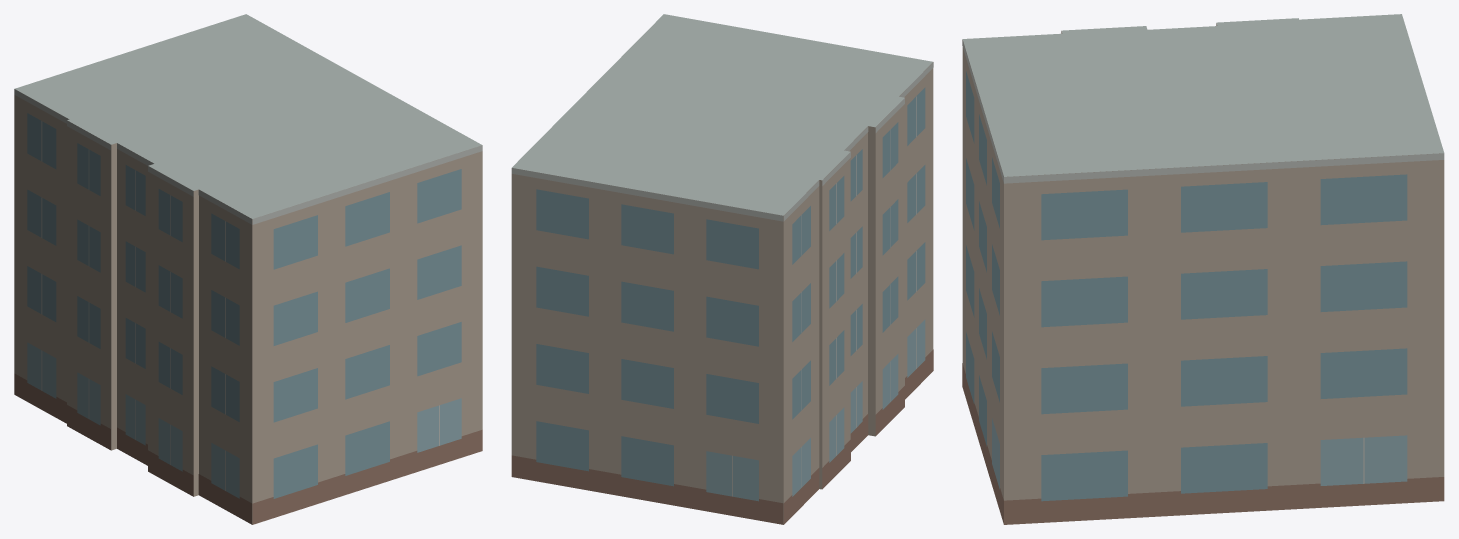
File: survey-upis-32871502.glb
3 views of the same model, side by side, from view 1: azimuth 30°, elevation 25°; view 2: azimuth 150°, elevation 25°; view 3: azimuth 270°, elevation 25° (orthographic). The views are drawn at different scales.
Parts seen in each view (by area): view 1: survey-upis-32871502.tmp; view 2: survey-upis-32871502.tmp; view 3: survey-upis-32871502.tmp.
Boxes of the visible parts, x1,y1,x2,y2 form: survey-upis-32871502.tmp: (14, 14, 482, 524); survey-upis-32871502.tmp: (511, 14, 933, 524); survey-upis-32871502.tmp: (962, 14, 1444, 524).
Bounding box in the file's own units: 12.76 × 12.7 × 15.95.
